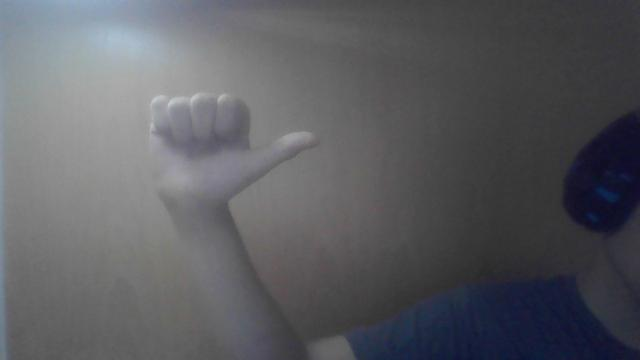left: (144, 92, 328, 212)
